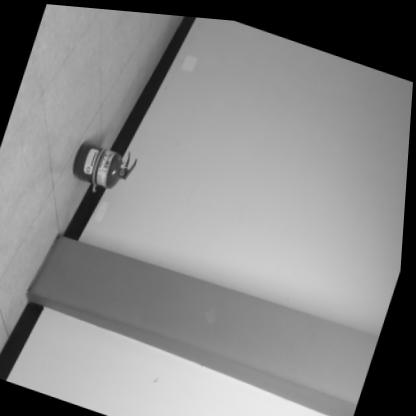FE: (70, 134, 139, 193)
